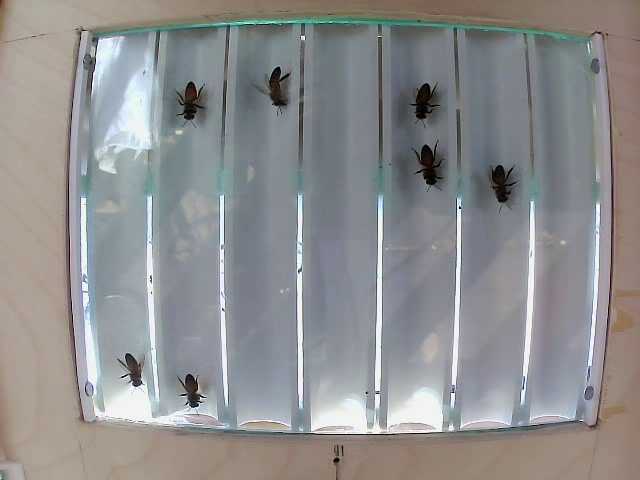bee: (169, 362, 223, 417), (488, 159, 531, 220), (403, 71, 445, 131), (409, 136, 449, 195), (261, 66, 299, 128), (100, 348, 151, 394), (166, 88, 219, 129)
